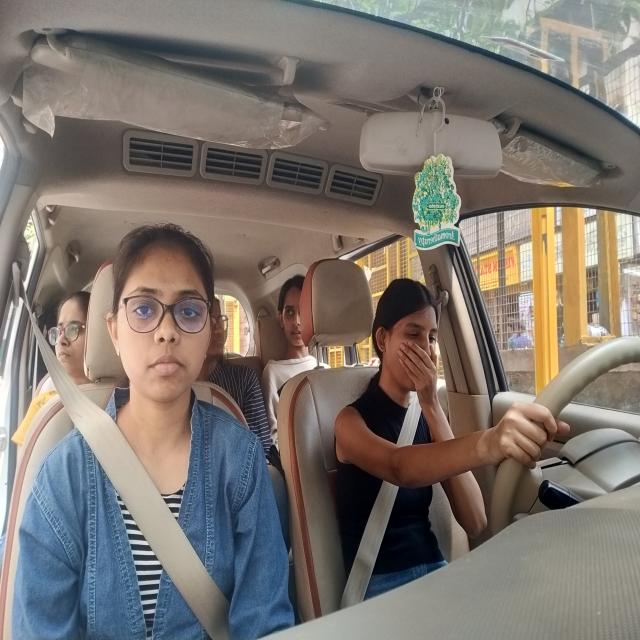drowsy: (371, 277, 448, 407)
person: (105, 218, 215, 421), (45, 292, 93, 378), (277, 272, 311, 367), (210, 292, 232, 372)
